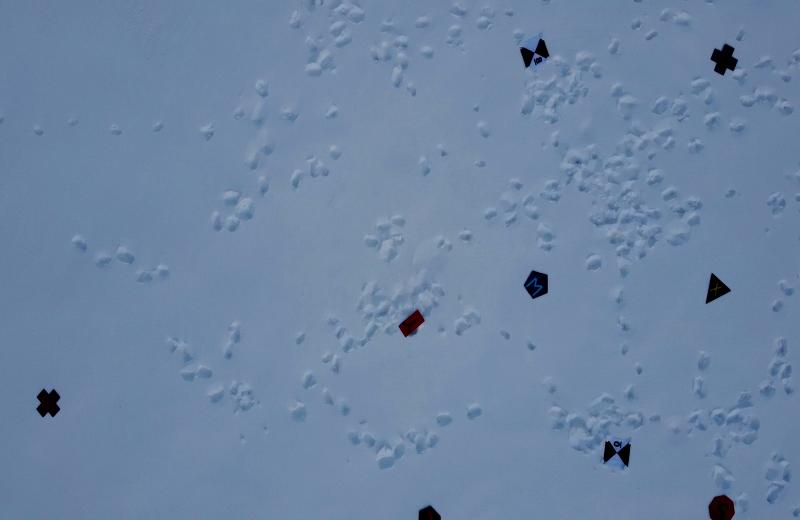Cross: (708, 40, 742, 82), (33, 382, 67, 420)
Hexagon: (411, 501, 444, 520)
Octagon: (705, 491, 740, 520)
Pentagon: (518, 265, 550, 304)
Rectangle: (396, 306, 427, 340)
Triangle: (701, 272, 734, 308)
